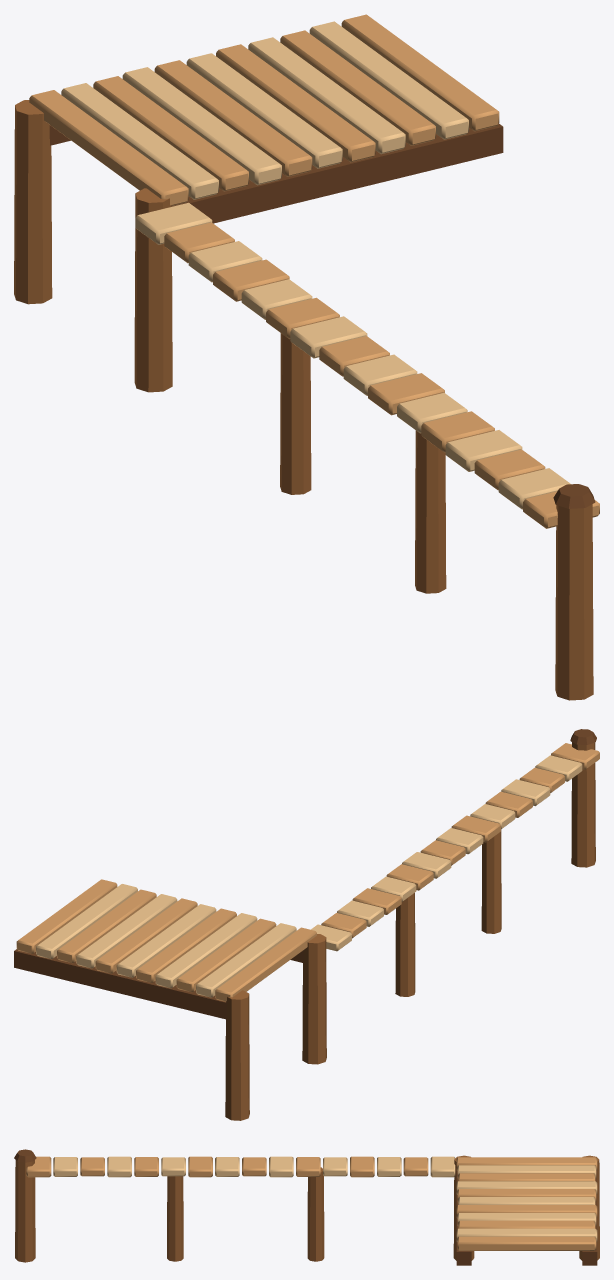
File: dock_berth.fbx
3 renders of one model, top to bottom at view 1: azimuth 30°, elevation 25°; view 2: azimuth 150°, elevation 25°; view 3: azimuth 270°, elevation 25°, orthographic. The views are drawn at different scales.
Parts seen in each view (by area): view 1: dock_berth; view 2: dock_berth; view 3: dock_berth.
Part boxes in pixels (left/top/right/bottom): dock_berth: left=14, top=14, right=599, bottom=700; dock_berth: left=14, top=729, right=599, bottom=1120; dock_berth: left=14, top=1149, right=599, bottom=1265.
Bounding box in the file's own units: 1.19 × 0.62 × 3.13.
